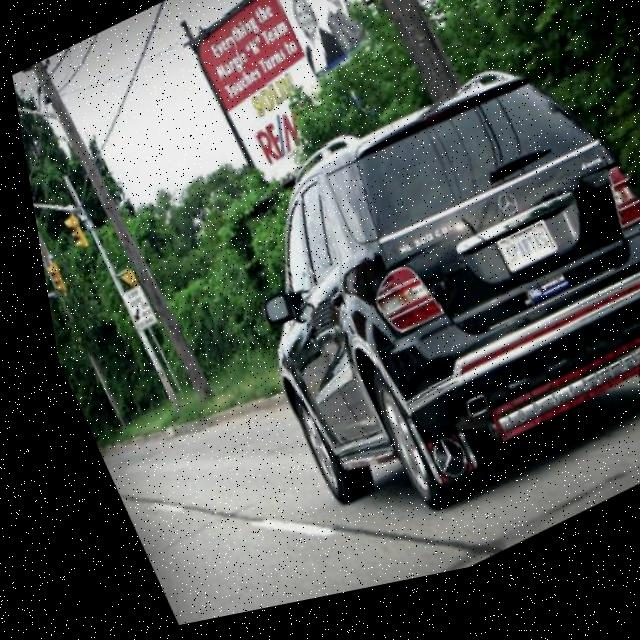license_plate: (482, 236, 550, 296)
